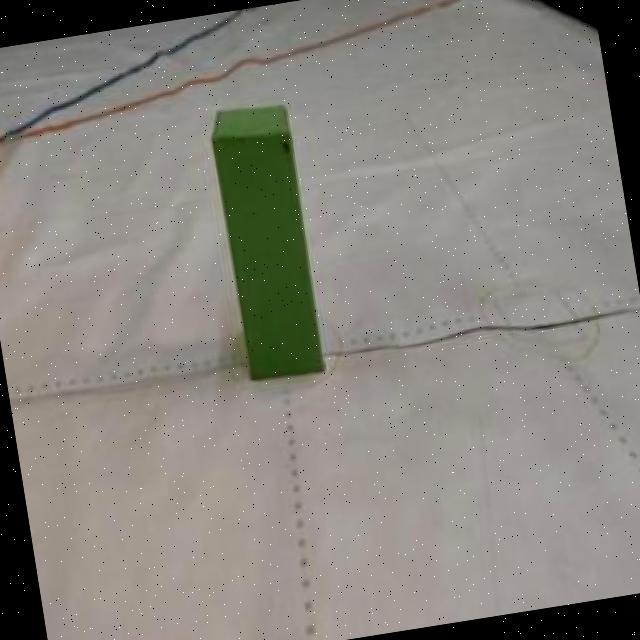greenbox: (207, 103, 329, 384)
